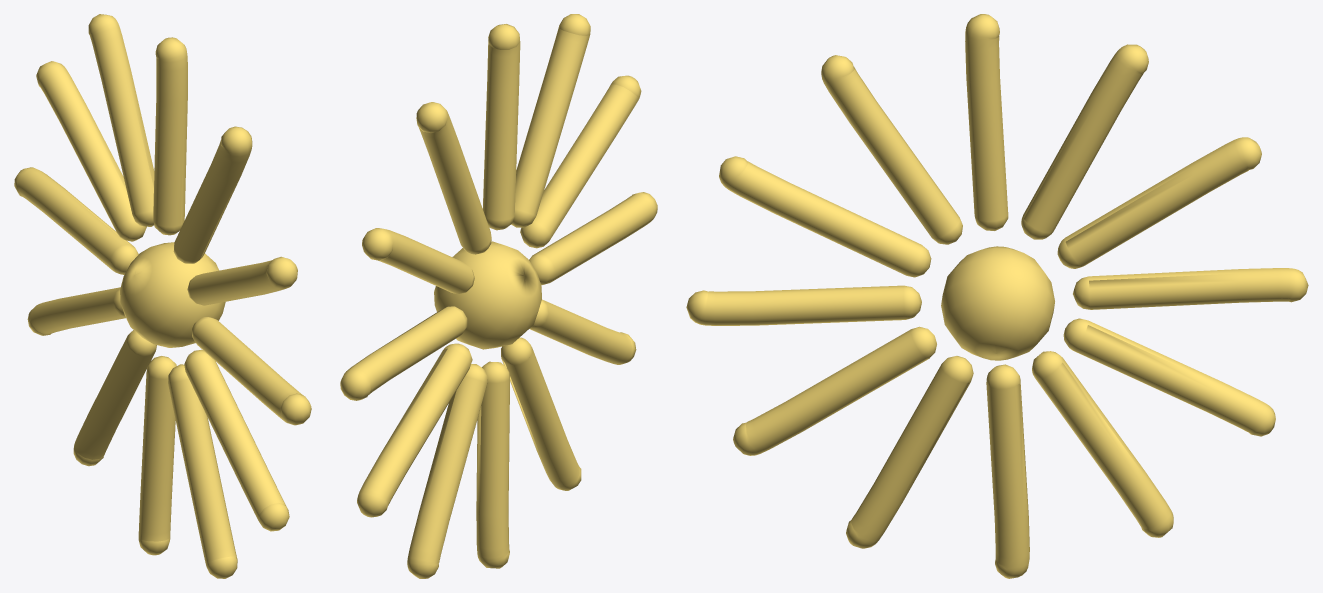
Rendered from sun.fbx.
The picture shows the model from 3 angles, left to right: view 1: azimuth 30°, elevation 25°; view 2: azimuth 150°, elevation 25°; view 3: azimuth 270°, elevation 25°; orthographic projection. The views are drawn at different scales.
Parts seen in each view (by area): view 1: sun; view 2: sun; view 3: sun.
Boxes of the visible parts, box(x1,y1,x2,y2) form: sun: box(14, 14, 311, 578); sun: box(340, 14, 657, 578); sun: box(686, 14, 1308, 578).
Size of the model in its own units: 10491 by 57704 by 57699.
